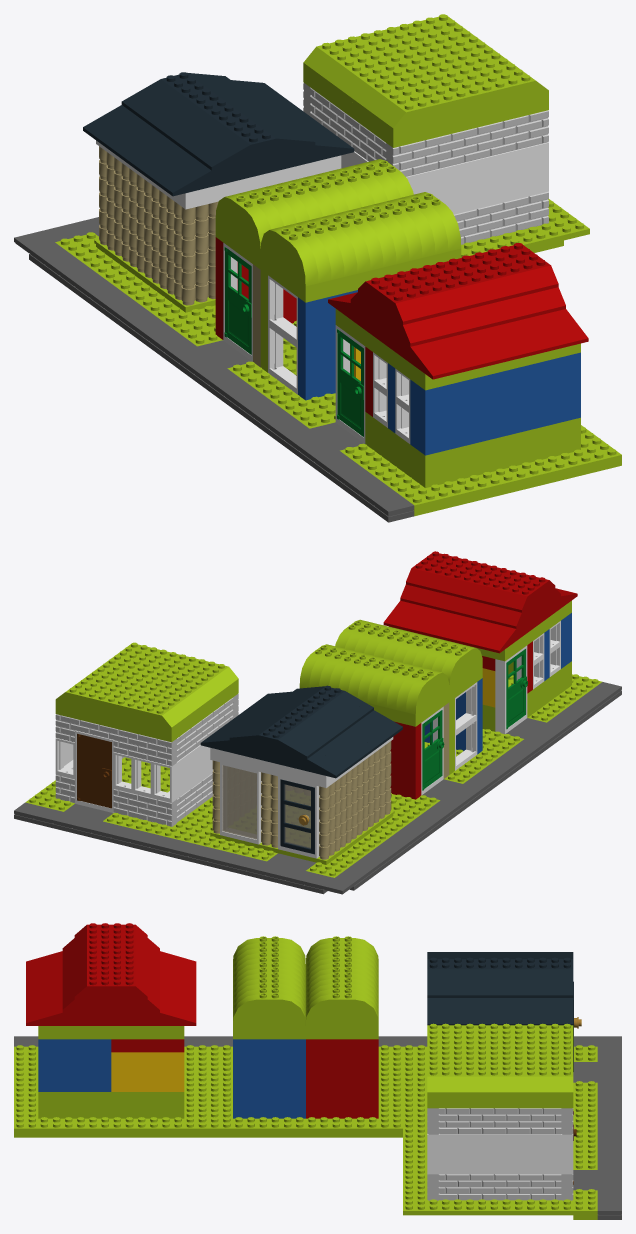
The model's file is Block5-lod1.fbx.
The picture shows the model from 3 angles, top to bottom: view 1: azimuth 30°, elevation 25°; view 2: azimuth 150°, elevation 25°; view 3: azimuth 270°, elevation 25°; orthographic projection. The views are drawn at different scales.
Visible parts, largest first — view 1: Material_119, Material_21, Material_26, Material_199, Material_23, Material_1, Material_5, Material_208, Material_28; view 2: Material_119, Material_199, Material_21, Material_26, Material_1, Material_5, Material_208, Material_111, Material_28, Material_192, Material_23, Material_24; view 3: Material_119, Material_21, Material_26, Material_23, Material_208, Material_199, Material_1, Material_24.
Boxes of the visible parts, x1,y1,x2,y2 form: Material_119: (55,14,621,516); Material_21: (215,237,588,416); Material_26: (83,72,354,196); Material_199: (14,217,414,522); Material_23: (298,290,580,455); Material_1: (96,140,548,443); Material_5: (99,146,260,367); Material_208: (303,83,548,244); Material_28: (224,247,363,436); Material_119: (25,600,602,877); Material_199: (14,682,621,894); Material_21: (383,551,577,799); Material_26: (200,685,402,854); Material_1: (55,621,560,858); Material_5: (212,702,449,859); Material_208: (55,694,238,826); Material_111: (222,765,310,848); Material_28: (422,649,527,790); Material_192: (77,733,111,808); Material_23: (424,613,571,754); Material_24: (482,668,495,707); Material_119: (14,936,597,1219); Material_21: (26,923,378,1118); Material_26: (427,952,573,1071); Material_23: (38,1039,305,1118); Material_208: (427,1108,573,1200); Material_199: (14,1036,621,1219); Material_1: (427,1134,573,1174); Material_24: (111,1052,184,1091).
Size of the model in its own units: 27.2 by 10.42 by 40.
